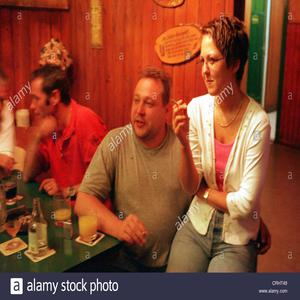cigarette: (169, 98, 181, 107)
